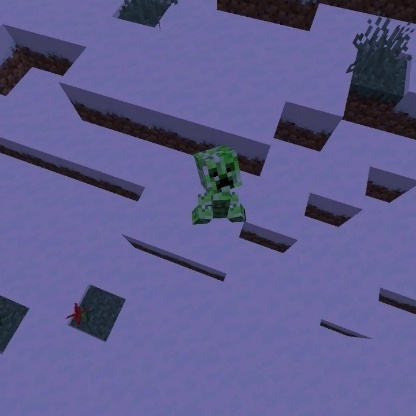creeper: (190, 143, 248, 229)
